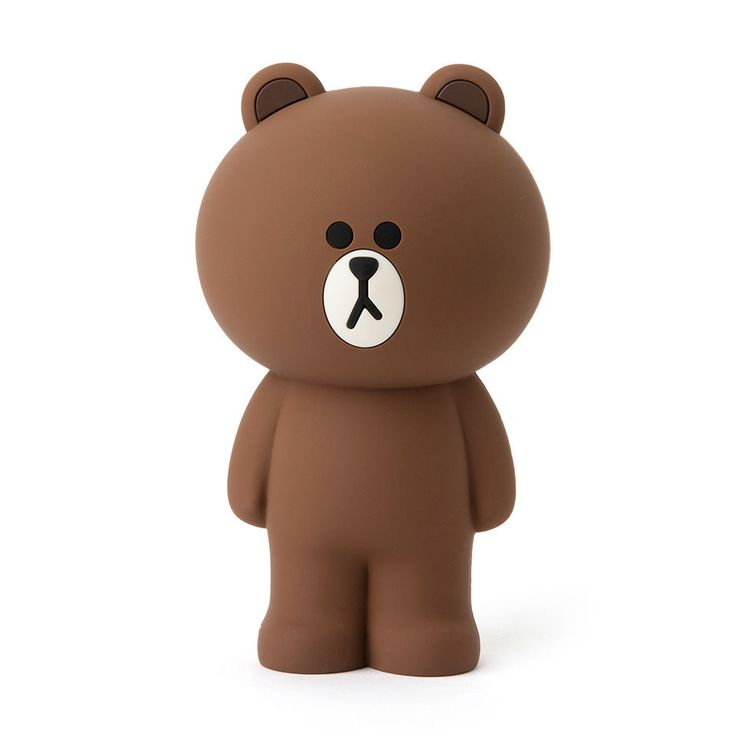line_brown: (183, 62, 573, 393)
